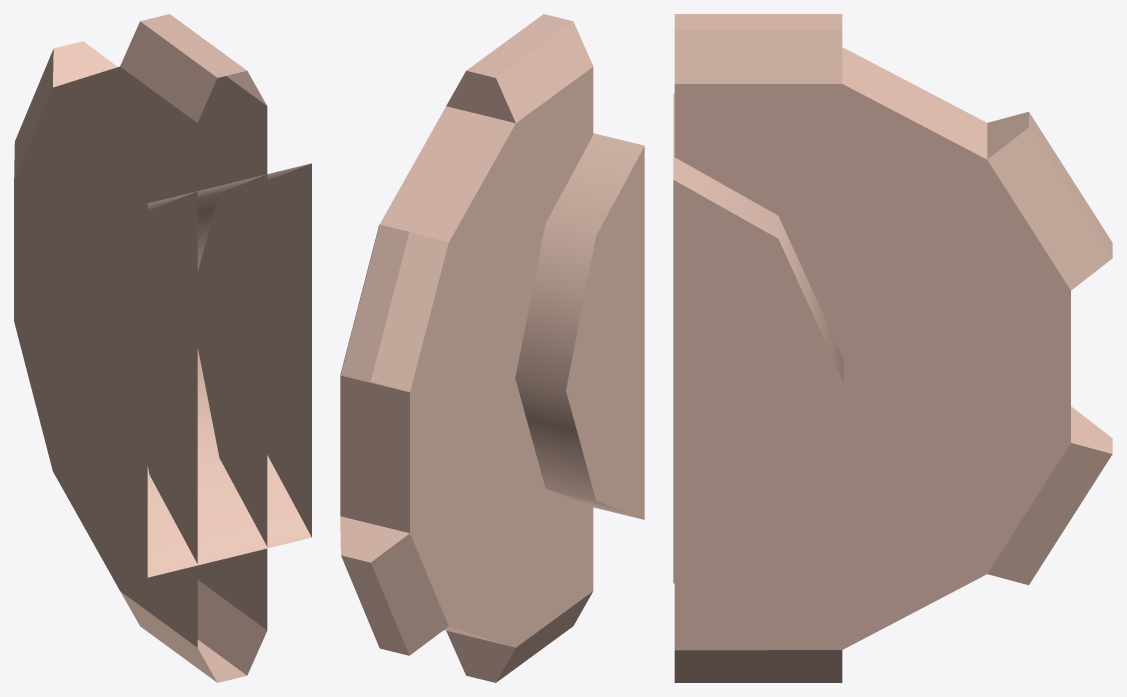
3 views of the same model, side by side, from view 1: azimuth 30°, elevation 25°; view 2: azimuth 150°, elevation 25°; view 3: azimuth 270°, elevation 25° (orthographic). The views are drawn at different scales.
Visible parts, largest first — view 1: Object46; view 2: Object46; view 3: Object46.
Part boxes in pixels (x1,y1,x2,y2): Object46: [14, 14, 311, 682]; Object46: [340, 14, 644, 682]; Object46: [673, 14, 1112, 682].
Bounding box in the file's own units: 11549 × 40633 × 24762.
